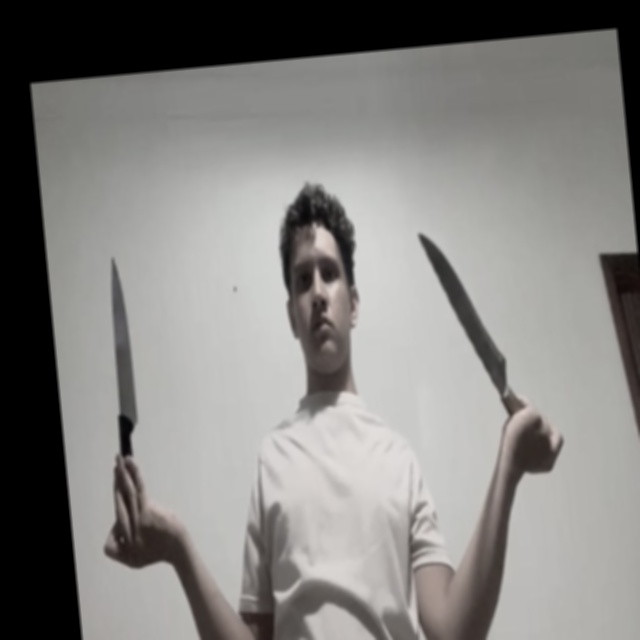Sharp-Object: (419, 226, 508, 395), (104, 256, 138, 422)
